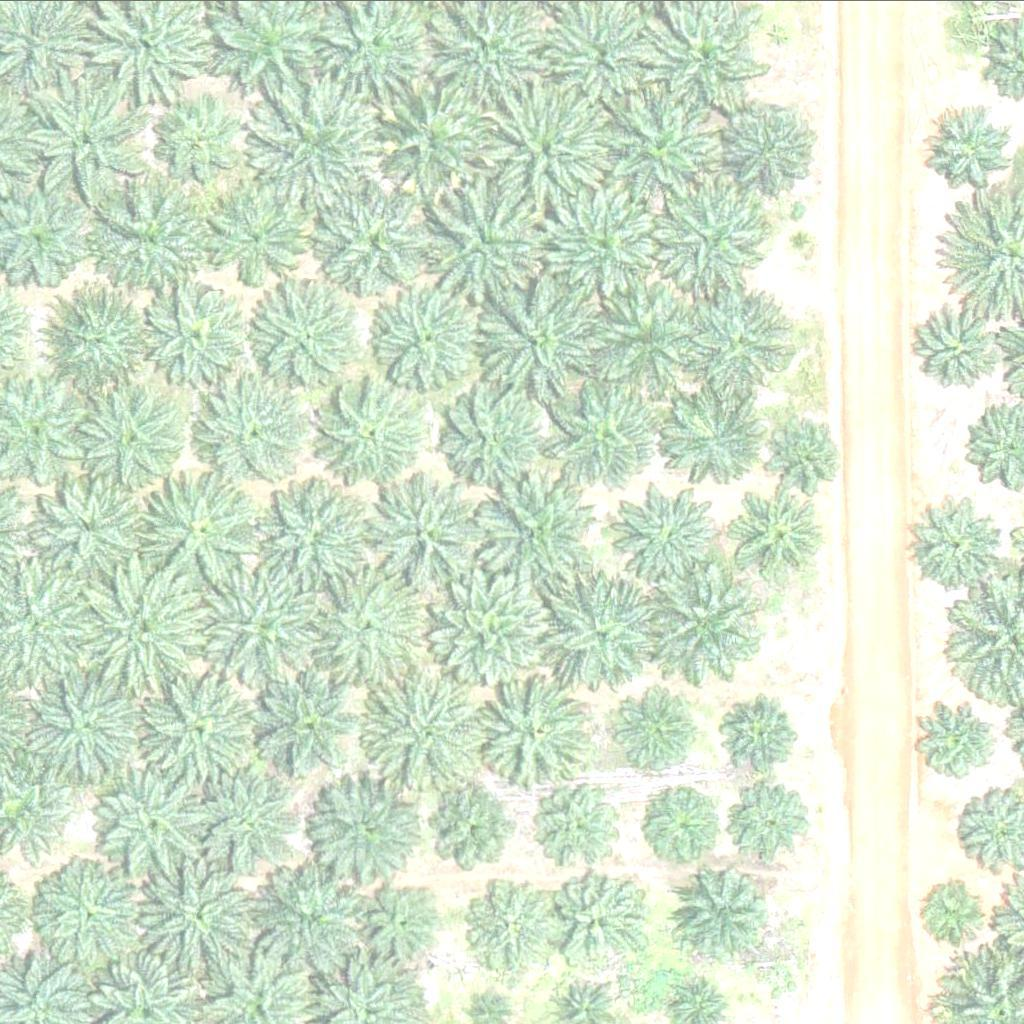Kelapa_Sawit: (488, 80, 614, 205), (364, 81, 490, 206), (250, 81, 376, 206), (323, 178, 449, 303), (16, 77, 142, 202), (77, 565, 202, 690), (541, 7, 654, 120), (690, 283, 803, 396), (587, 281, 700, 394), (475, 277, 588, 390), (196, 378, 309, 491), (541, 379, 654, 492), (146, 469, 259, 582), (251, 479, 364, 592), (369, 482, 482, 595), (643, 569, 756, 682), (475, 679, 588, 792), (315, 776, 428, 889), (143, 858, 256, 971), (244, 872, 357, 985), (73, 383, 186, 496), (32, 469, 145, 582), (95, 761, 208, 874), (87, 189, 201, 301), (38, 284, 152, 396), (612, 91, 725, 203), (428, 184, 541, 296), (543, 185, 656, 297), (658, 182, 771, 294), (359, 277, 472, 389), (246, 281, 359, 393), (473, 474, 586, 586), (619, 478, 732, 590), (200, 571, 313, 683), (309, 573, 422, 685), (428, 575, 541, 687), (543, 579, 656, 691), (365, 677, 478, 789), (26, 672, 139, 784), (138, 673, 251, 785), (909, 492, 1010, 592), (713, 89, 814, 189), (315, 378, 416, 478), (439, 387, 540, 487), (661, 386, 762, 486), (262, 675, 363, 775), (674, 866, 775, 966), (40, 863, 141, 963), (204, 187, 304, 287), (145, 284, 245, 384), (731, 494, 819, 582), (465, 883, 553, 971), (559, 875, 647, 963), (917, 697, 1005, 784), (612, 690, 700, 777), (209, 779, 297, 866), (435, 788, 511, 863), (939, 117, 1015, 192), (926, 310, 1002, 385), (154, 105, 230, 180), (728, 694, 804, 769), (550, 786, 626, 861), (732, 783, 808, 858), (368, 890, 444, 965), (655, 798, 718, 861), (920, 877, 983, 940), (772, 424, 835, 487)
